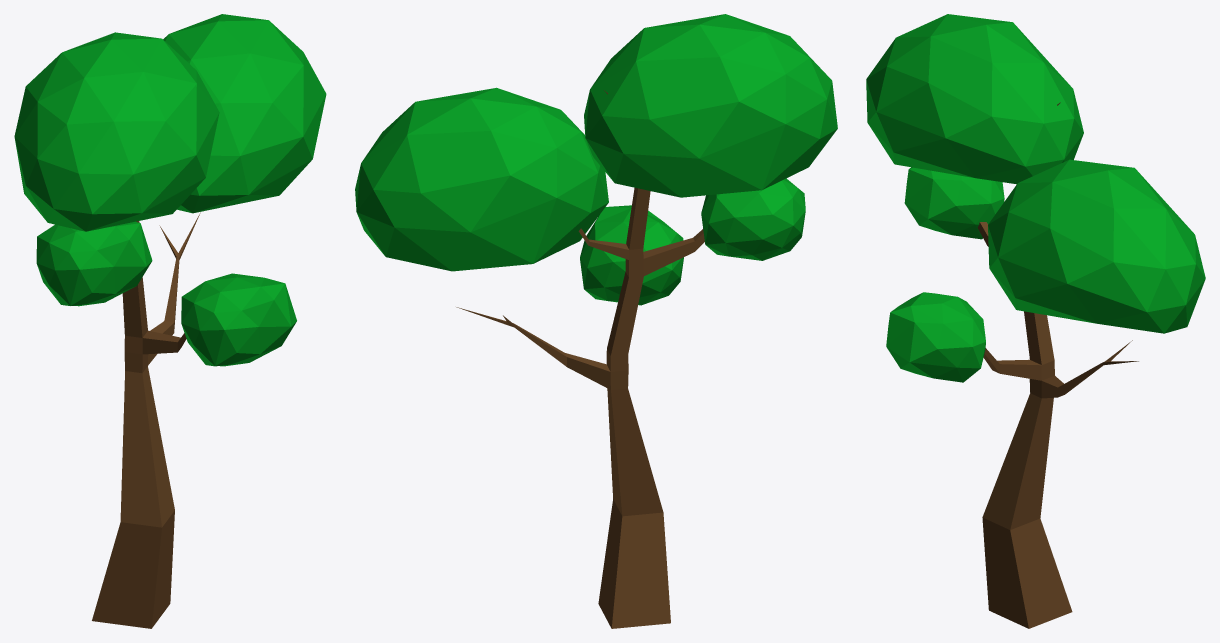
Rendered from treeb4.glb.
3 views of the same model, side by side, from view 1: azimuth 30°, elevation 25°; view 2: azimuth 150°, elevation 25°; view 3: azimuth 270°, elevation 25° (orthographic). The views are drawn at different scales.
Parts seen in each view (by area): view 1: Icosphere.015, Icosphere.005, Cube.019, Icosphere.016, Icosphere.007; view 2: Icosphere.015, Icosphere.005, Cube.019, Icosphere.007, Icosphere.016; view 3: Icosphere.005, Icosphere.015, Cube.019, Icosphere.016, Icosphere.007.
Boxes of the visible parts, x1,y1,x2,y2 form: Icosphere.015: (14,32,219,231); Icosphere.005: (163,14,326,213); Cube.019: (92,212,200,628); Icosphere.016: (181,273,296,366); Icosphere.007: (36,221,152,306); Icosphere.015: (584,14,837,197); Icosphere.005: (355,87,608,271); Cube.019: (456,90,704,628); Icosphere.007: (701,178,805,260); Icosphere.016: (580,205,683,305); Icosphere.005: (988,159,1205,333); Icosphere.015: (866,14,1083,184); Cube.019: (977,102,1138,628); Icosphere.016: (886,292,985,382); Icosphere.007: (904,167,1004,239).
Bounding box in the file's own units: 8.13 × 12.46 × 6.77.
